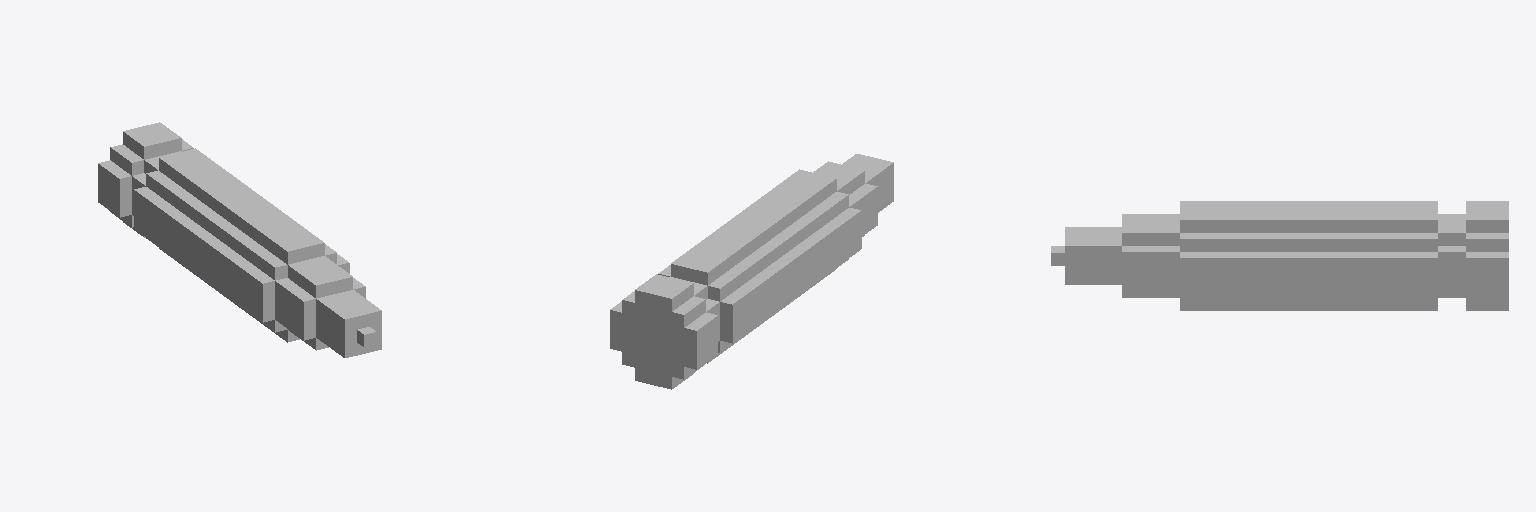
Rendered from bullet 1.obj.
The picture shows the model from 3 angles: view 1: azimuth 30°, elevation 25°; view 2: azimuth 150°, elevation 25°; view 3: azimuth 270°, elevation 25°; orthographic projection.
Visible parts, largest first — view 1: object 1; view 2: object 1; view 3: object 1.
Boxes of the visible parts, box(x1,y1,x2,y2) form: object 1: box(98, 122, 381, 357); object 1: box(610, 154, 893, 389); object 1: box(1051, 201, 1508, 310).
Bounding box in the file's own units: 0.7 × 0.7 × 3.2.